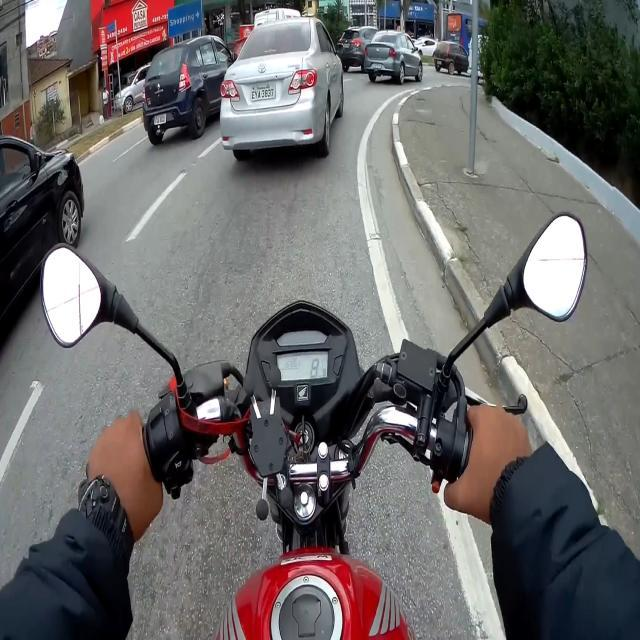Placa_mercosul_carro: (251, 85, 276, 102), (154, 113, 166, 126), (372, 64, 382, 68)
